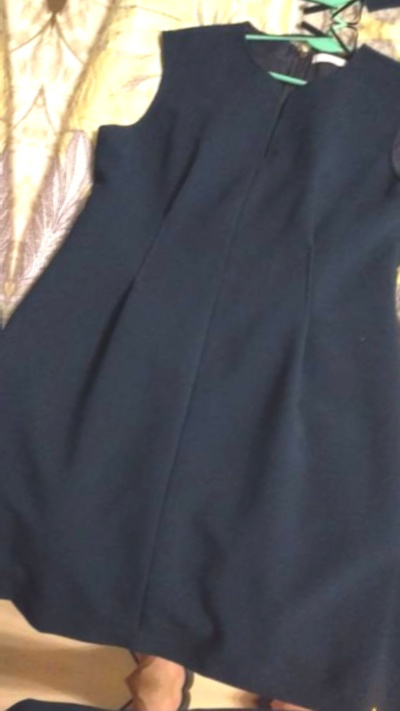Dress: (0, 0, 400, 711), (0, 0, 45, 648), (0, 657, 369, 711), (376, 57, 400, 711), (74, 0, 400, 36)
